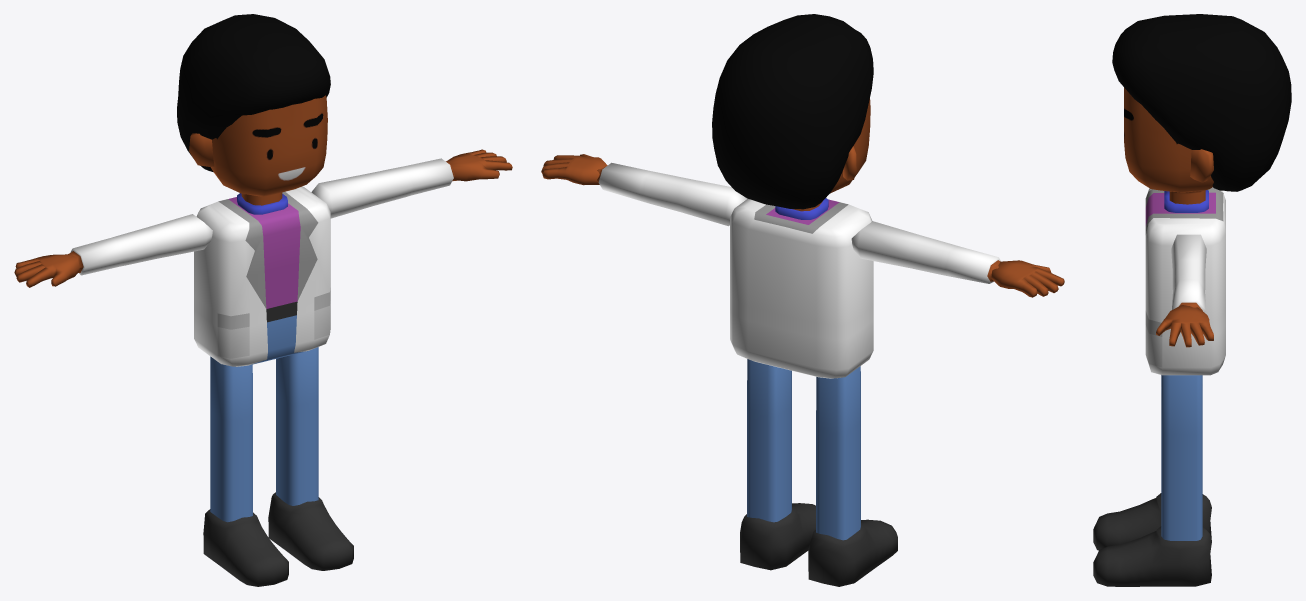
Rendered from NPC_Yellow01_BlackHair04.gltf.
3 renders of one model, left to right at view 1: azimuth 30°, elevation 25°; view 2: azimuth 150°, elevation 25°; view 3: azimuth 270°, elevation 25°, orthographic. The views are drawn at different scales.
Parts seen in each view (by area): view 1: NPC_Corpo_Yellow1_BlackHair.004; view 2: NPC_Corpo_Yellow1_BlackHair.004; view 3: NPC_Corpo_Yellow1_BlackHair.004.
Part boxes in pixels (x1,y1,x2,y2): NPC_Corpo_Yellow1_BlackHair.004: (14, 14, 512, 586); NPC_Corpo_Yellow1_BlackHair.004: (541, 14, 1064, 586); NPC_Corpo_Yellow1_BlackHair.004: (1093, 14, 1291, 586).
Size of the model in its own units: 2.31 by 2.3 by 0.7742.
1 material, 1 textured.
